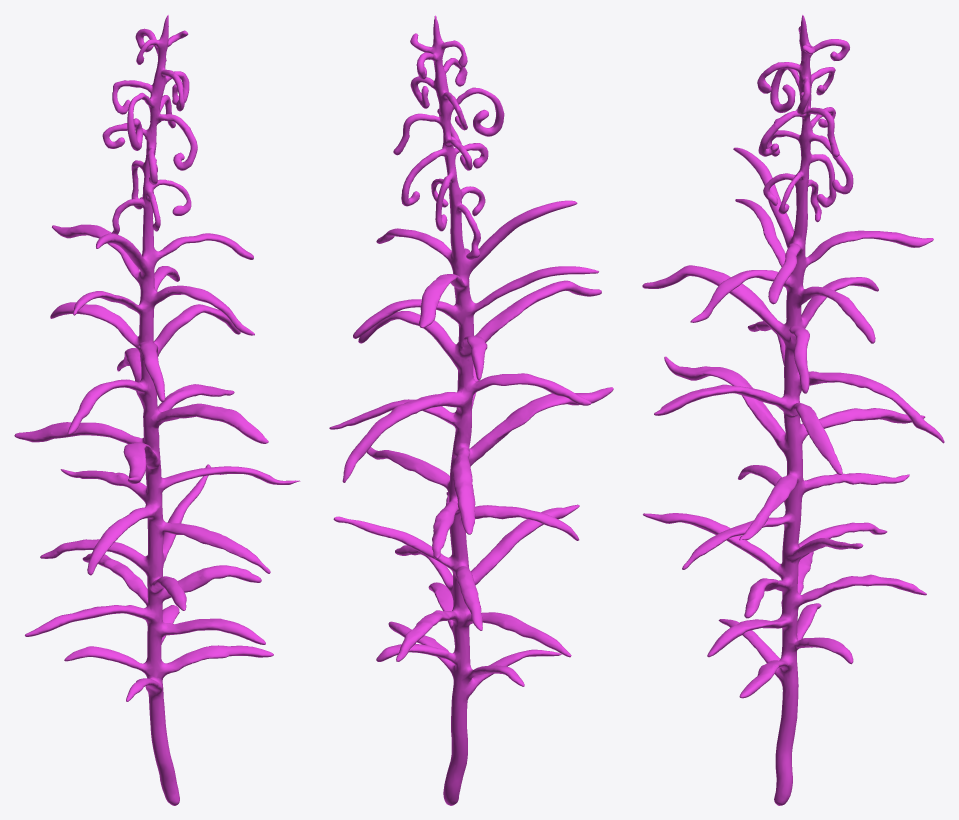
File: fireweed.gltf
The picture shows the model from 3 angles, left to right: view 1: azimuth 30°, elevation 25°; view 2: azimuth 150°, elevation 25°; view 3: azimuth 270°, elevation 25°; orthographic projection. The views are drawn at different scales.
Visible parts, largest first — view 1: fall fireweed painted 02; view 2: fall fireweed painted 02; view 3: fall fireweed painted 02.
Part boxes in pixels (x1,y1,x2,y2): fall fireweed painted 02: (14,15,300,805); fall fireweed painted 02: (329,15,613,805); fall fireweed painted 02: (642,15,944,805).
Size of the model in its own units: 0.3377 by 1.05 by 0.3635.
